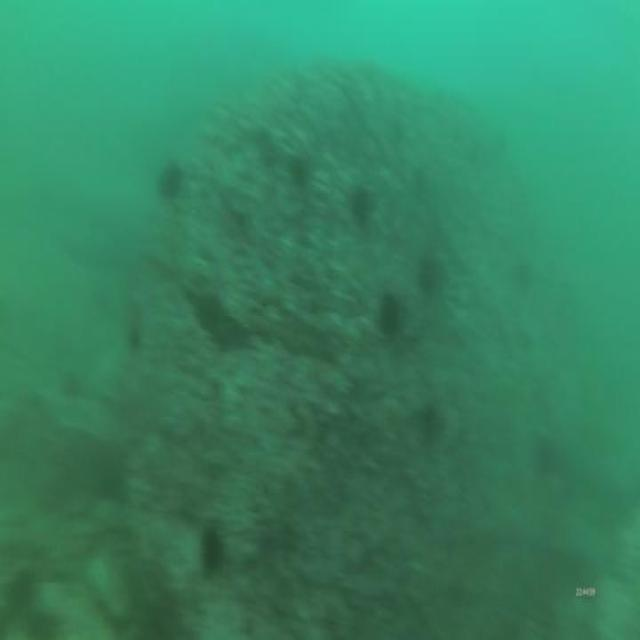echinus: (197, 514, 230, 580), (414, 243, 448, 302), (156, 158, 188, 202), (378, 288, 403, 344), (348, 182, 378, 226), (420, 398, 446, 444), (290, 147, 308, 191)
